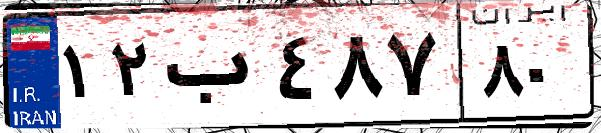0: (525, 38, 570, 115)
1: (57, 26, 110, 100)
2: (110, 28, 158, 98)
4: (270, 28, 330, 110)
7: (385, 28, 445, 110)
8: (330, 28, 385, 110), (475, 38, 525, 113)
ب: (158, 20, 270, 120)
